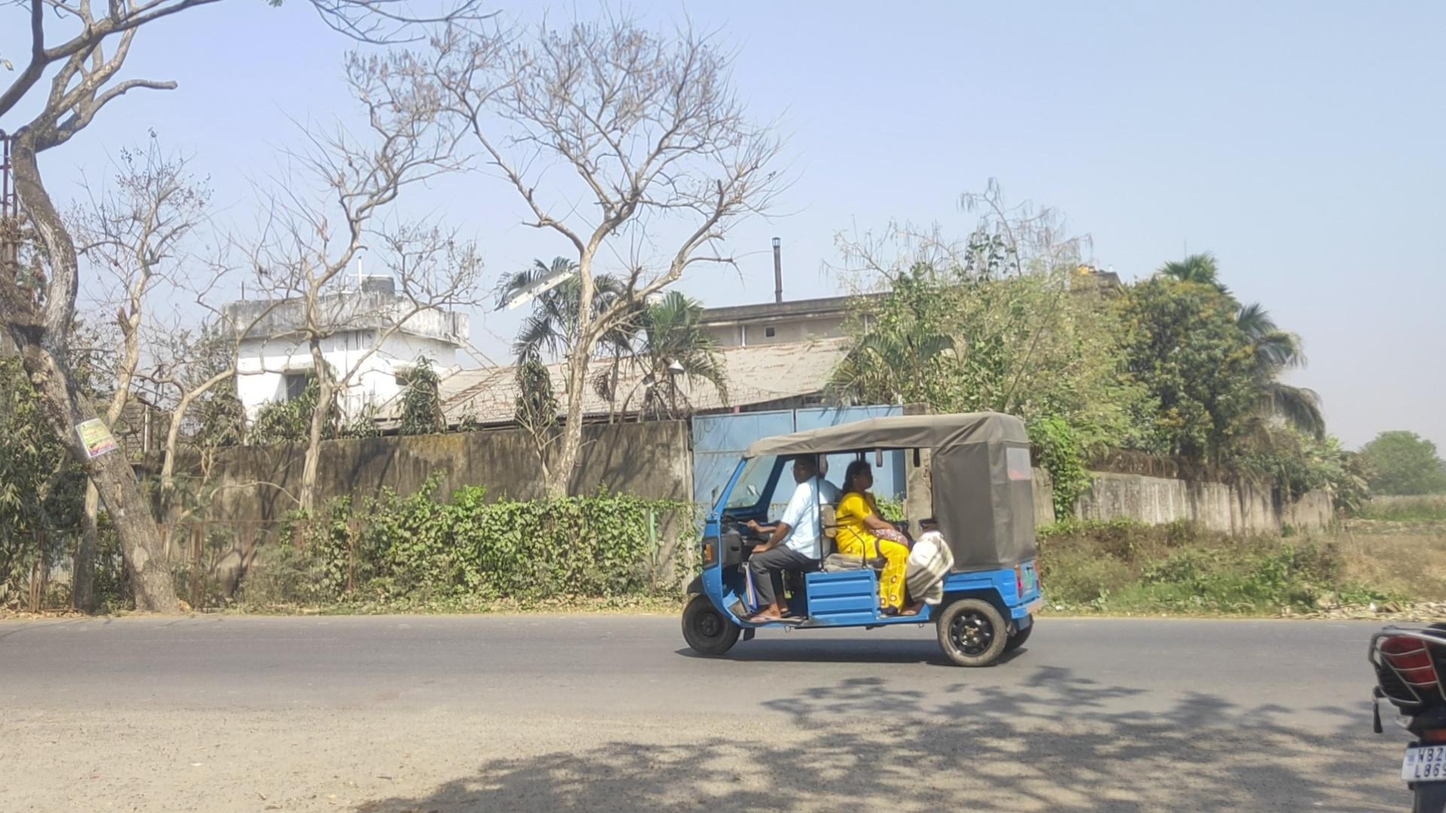Auto: (682, 412, 1042, 668)
